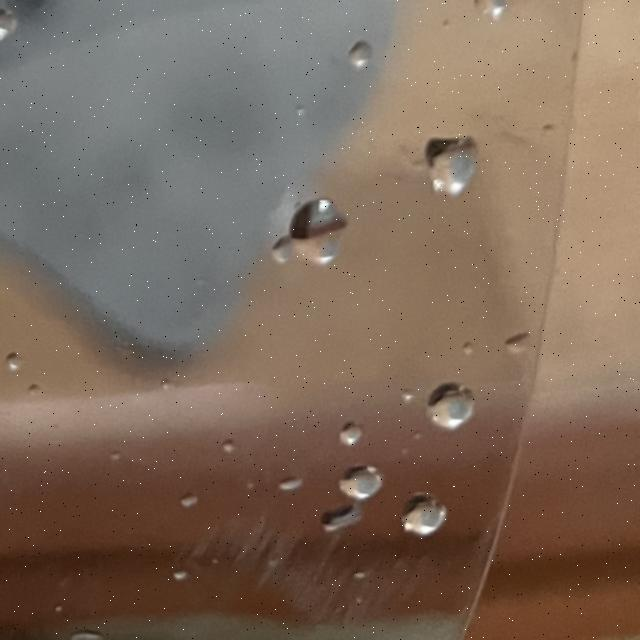raindrop: (287, 192, 347, 274), (410, 131, 484, 193), (417, 378, 479, 435), (334, 450, 398, 504), (394, 490, 460, 542), (319, 500, 372, 540), (327, 417, 369, 460), (498, 334, 543, 374), (208, 429, 246, 466), (261, 236, 299, 272), (463, 3, 514, 24), (349, 35, 379, 69), (268, 474, 310, 496), (0, 344, 26, 373), (20, 378, 46, 401), (168, 490, 198, 509), (173, 570, 194, 590)
